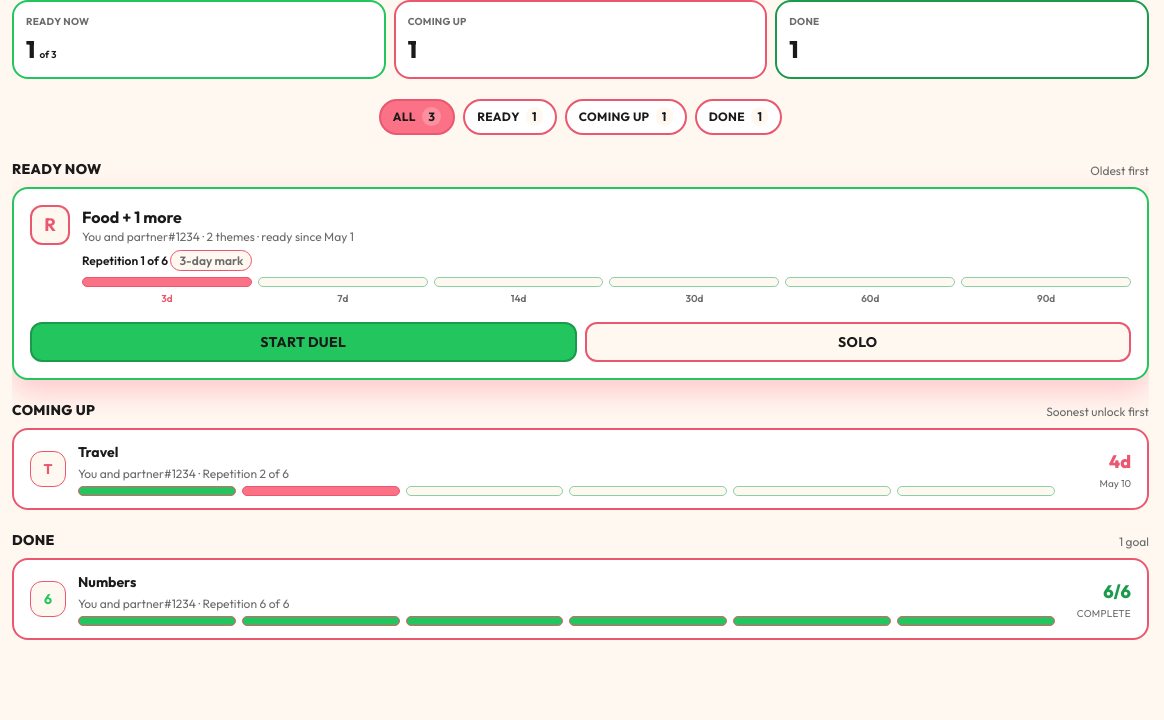
Test case: RepetitionBoard › coming up rows are not startable and done rows are read-only
Click the button "Coming Up 1": (626, 117) top-left (565, 99), bottom-right (687, 135)
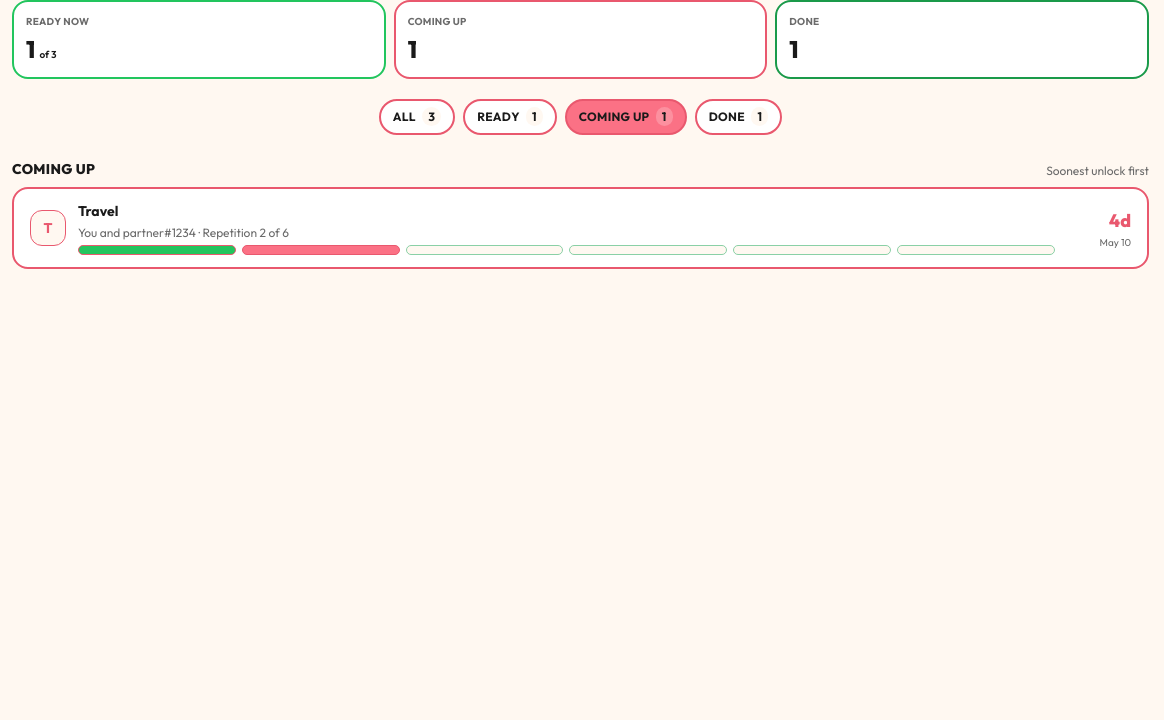
Expected: the element with test id "sr-coming-up-row" shows "4d", top-left (30, 189), bottom-right (1131, 267)
Result: the button with test id "sr-ready-start-duel" is gone
Click the button "Done 1": (738, 117) top-left (695, 99), bottom-right (782, 135)
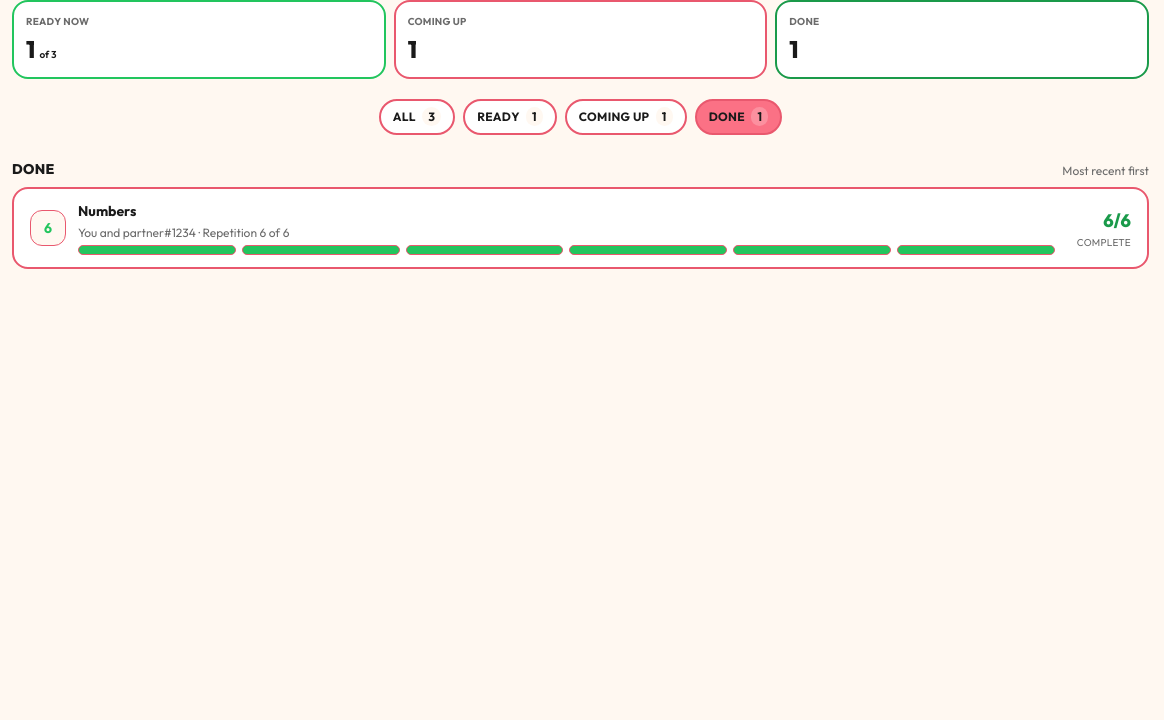
Result: the element with test id "sr-done-row" shows "6/6" at top-left (30, 189), bottom-right (1131, 267)
